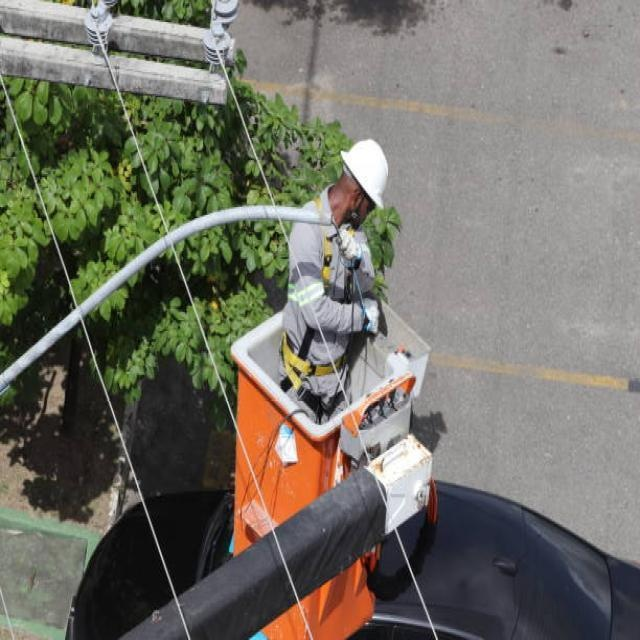Arnes_seguridad: (279, 198, 369, 391)
